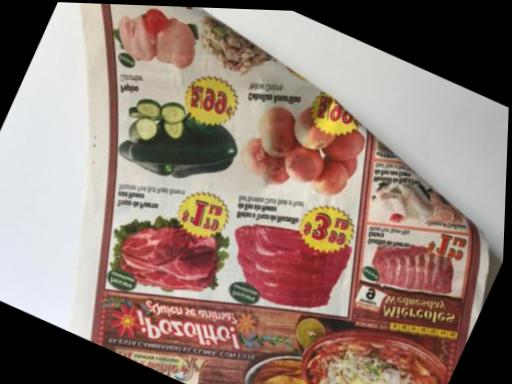paper: (0, 4, 494, 383)
